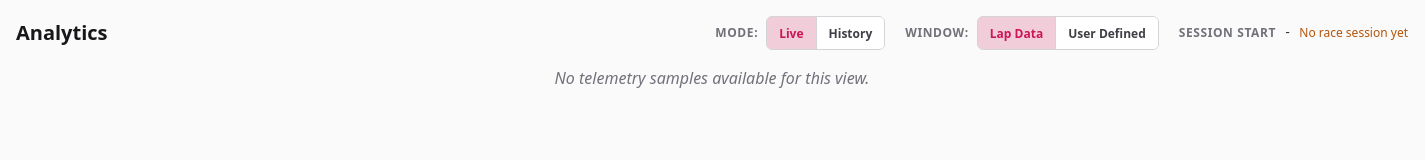
Test case: AnalyticsTab › shows user-defined window controls when User Defined source is selected
Click the button "User Defined".
click(1107, 34)  # box [1056,17,1158,51]
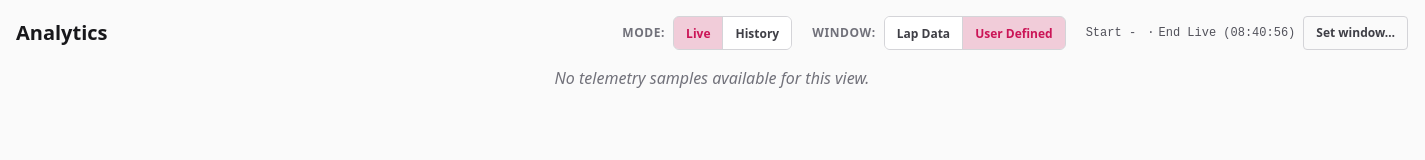
Expected: the text "Start" is shown, [1086,26,1143,40]
Expected: the text "Set window" is shown, [1303,16,1408,50]
